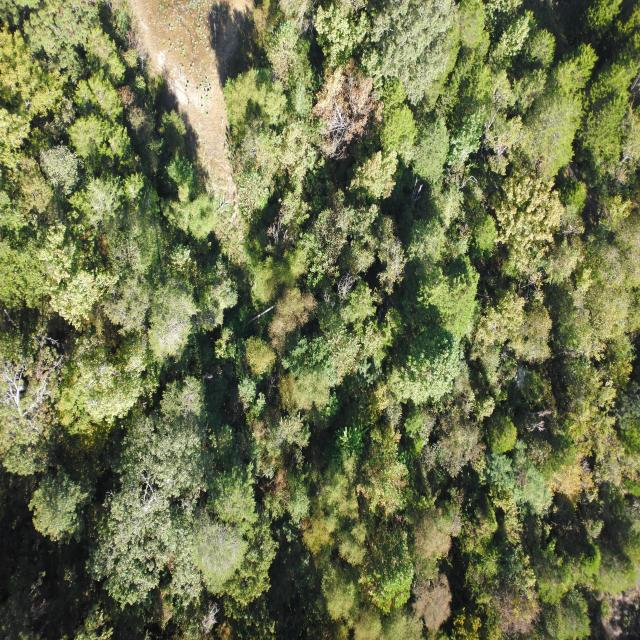Area of Interest: (8, 14, 635, 631)
